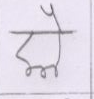ai_matra: (40, 3, 66, 30)
